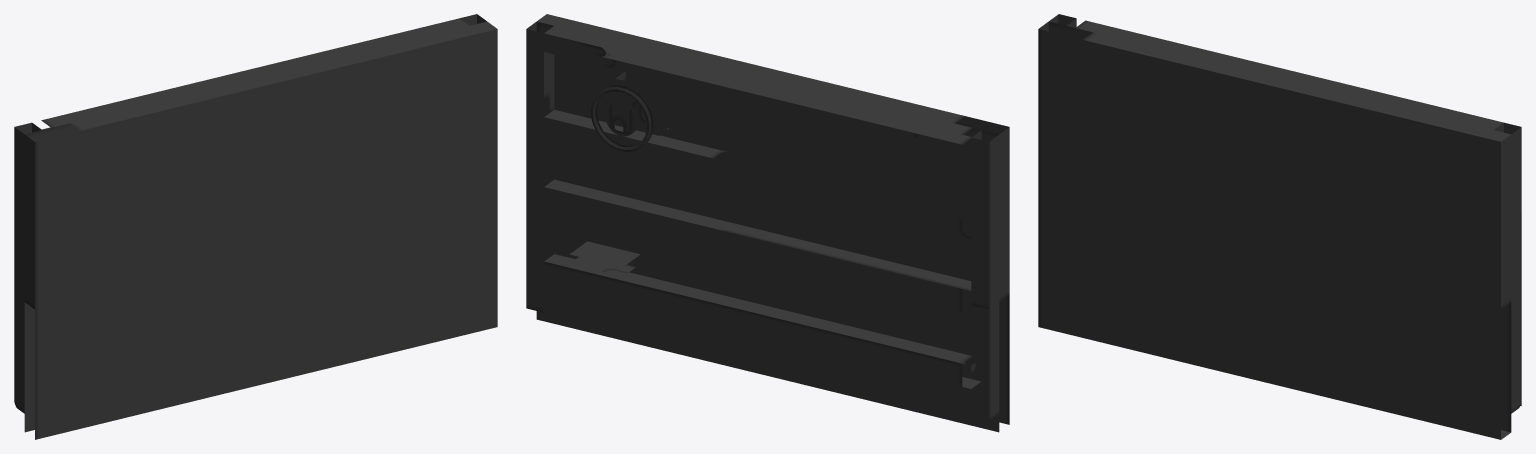
File: c70_left_face.obj
3 renders of one model, left to right at view 1: azimuth 30°, elevation 25°; view 2: azimuth 150°, elevation 25°; view 3: azimuth 330°, elevation 25°, orthographic.
Visible parts, largest first — view 1: cube; view 2: cube; view 3: cube.
Boxes of the visible parts, x1,y1,x2,y2 form: cube: [14, 14, 497, 439]; cube: [526, 14, 1009, 432]; cube: [1038, 14, 1521, 439].
Size of the model in its own units: 3.25 by 2 by 0.4533.
